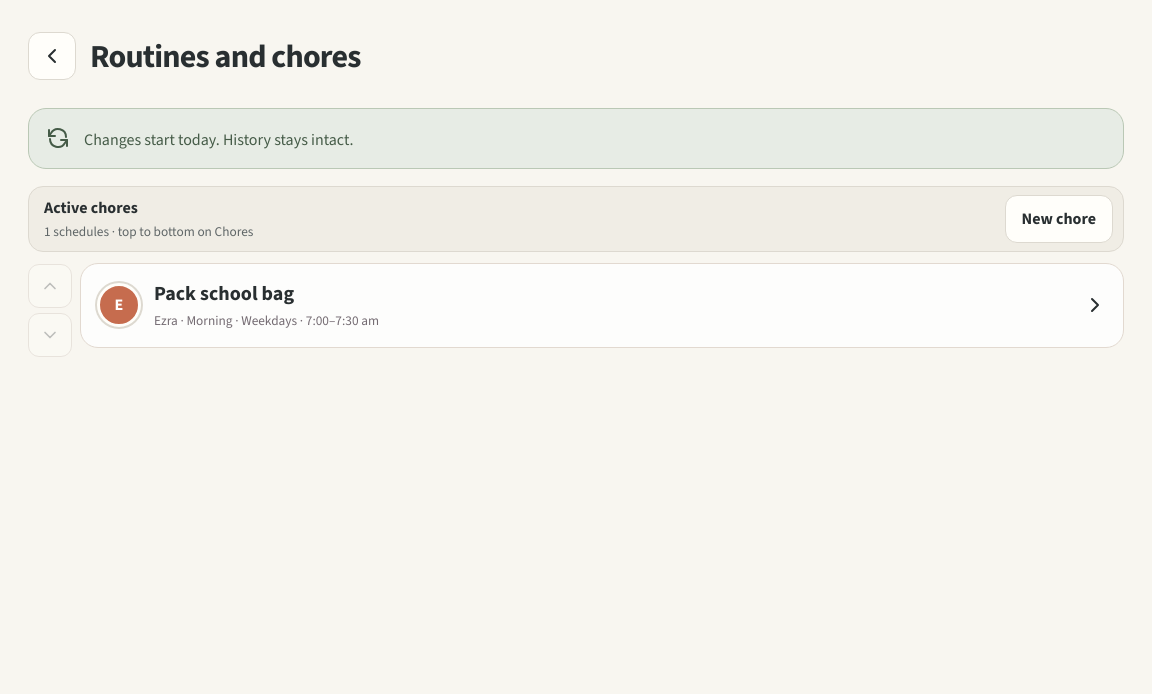
Test: RoutinesSettingsScreen People picker › starts an adult-only household with no automatic fallback selection
Click the button "New chore".
click(1059, 219)  # box [1005,195,1113,243]
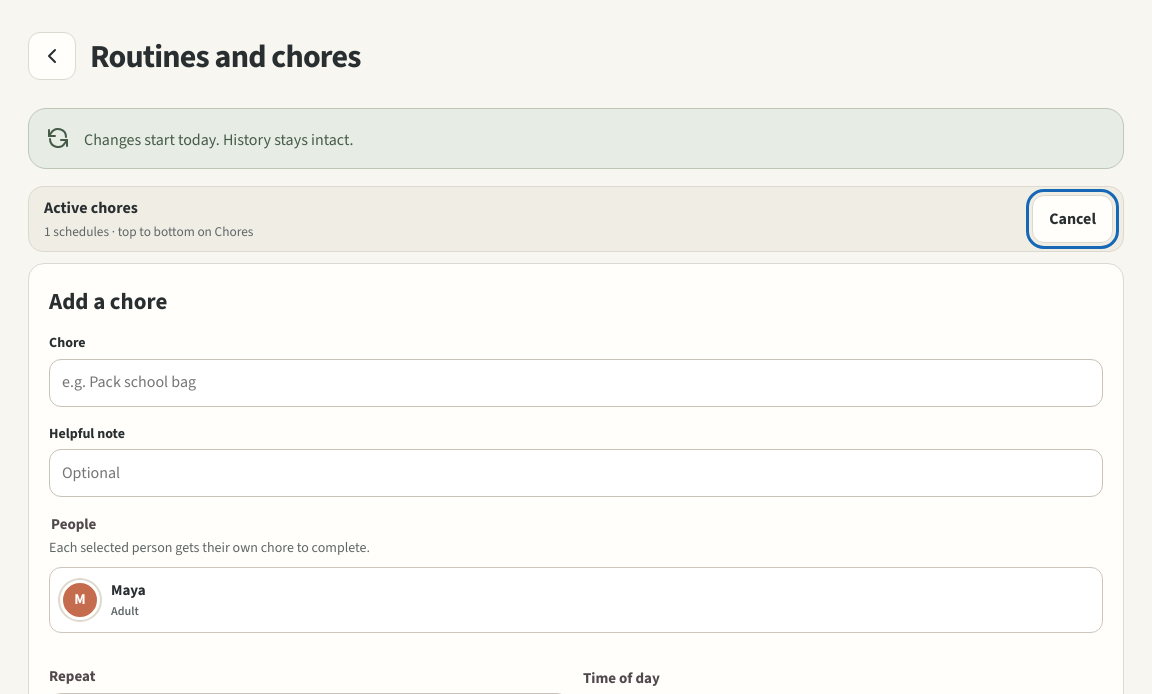
expect the checkbox labelled "M Maya Adult" is not checked: met, box [49,567,1103,633]
